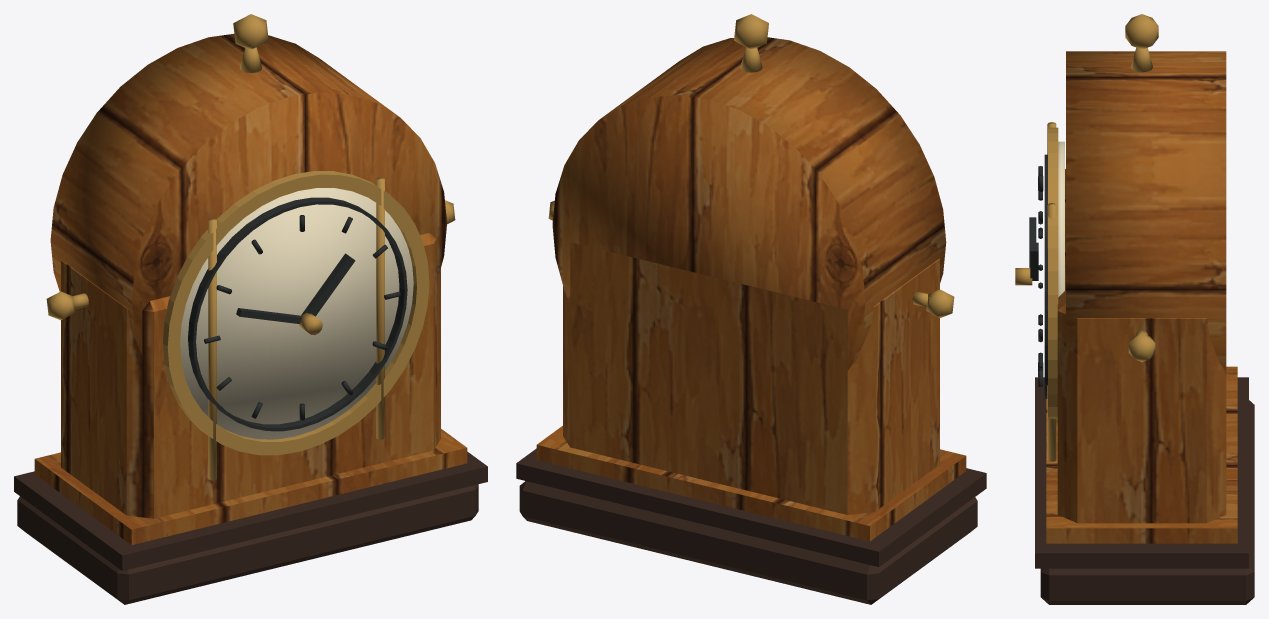
The picture shows the model from 3 angles, left to right: view 1: azimuth 30°, elevation 25°; view 2: azimuth 150°, elevation 25°; view 3: azimuth 270°, elevation 25°; orthographic projection.
Parts seen in each view (by area): view 1: clockshop_walnut, clockshop_ivory, clockshop_darkwood, clockshop_brass, clockshop_darkwood.001, clockshop_walnut.001, clockshop_ink, clockshop_brass.001; view 2: clockshop_walnut, clockshop_darkwood, clockshop_darkwood.001, clockshop_walnut.001, clockshop_brass.001; view 3: clockshop_walnut, clockshop_darkwood.001, clockshop_darkwood, clockshop_walnut.001, clockshop_brass, clockshop_brass.001, clockshop_ink, clockshop_ivory.
Part boxes in pixels (x1,y1,x2,y2): clockshop_walnut: (50,33,446,518); clockshop_ivory: (180,188,413,439); clockshop_darkwood: (17,484,478,604); clockshop_brass: (163,171,429,455); clockshop_darkwood.001: (14,451,487,570); clockshop_walnut.001: (34,429,467,545); clockshop_ink: (188,197,407,431); clockshop_brass.001: (46,14,455,480); clockshop_walnut: (552,37,946,514); clockshop_darkwood: (519,481,977,604); clockshop_darkwood.001: (516,448,986,566); clockshop_walnut.001: (536,426,966,541); clockshop_brass.001: (548,14,954,317); clockshop_walnut: (1057,51,1226,523); clockshop_darkwood.001: (1035,377,1248,568); clockshop_darkwood: (1040,400,1254,604); clockshop_walnut.001: (1046,366,1237,543); clockshop_brass: (1015,127,1058,425); clockshop_brass.001: (1047,14,1158,461); clockshop_ink: (1029,154,1047,398); clockshop_ivory: (1058,141,1064,297).
Size of the model in its own units: 0.8201 by 1 by 0.425.
Materials: 5 (1 with a texture image).
